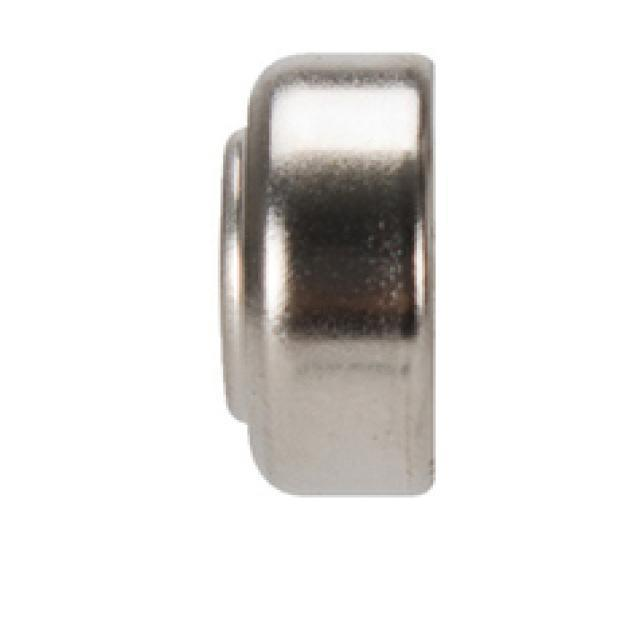COIN: (215, 50, 436, 495)
